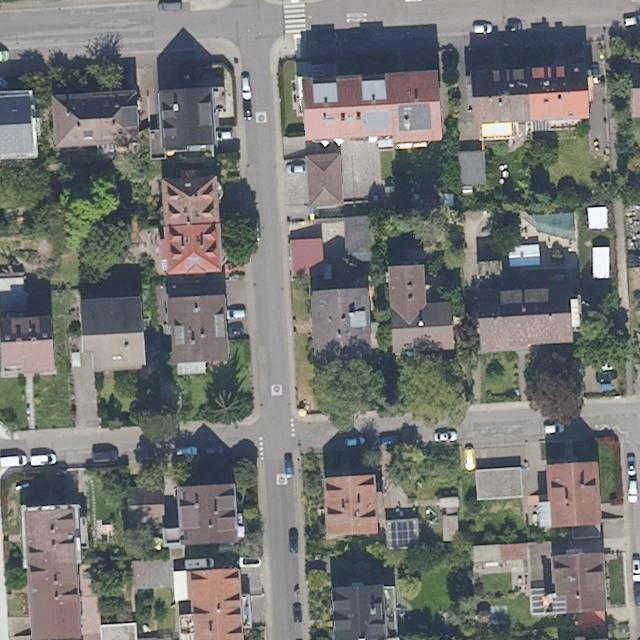PV: (389, 520, 419, 549)
